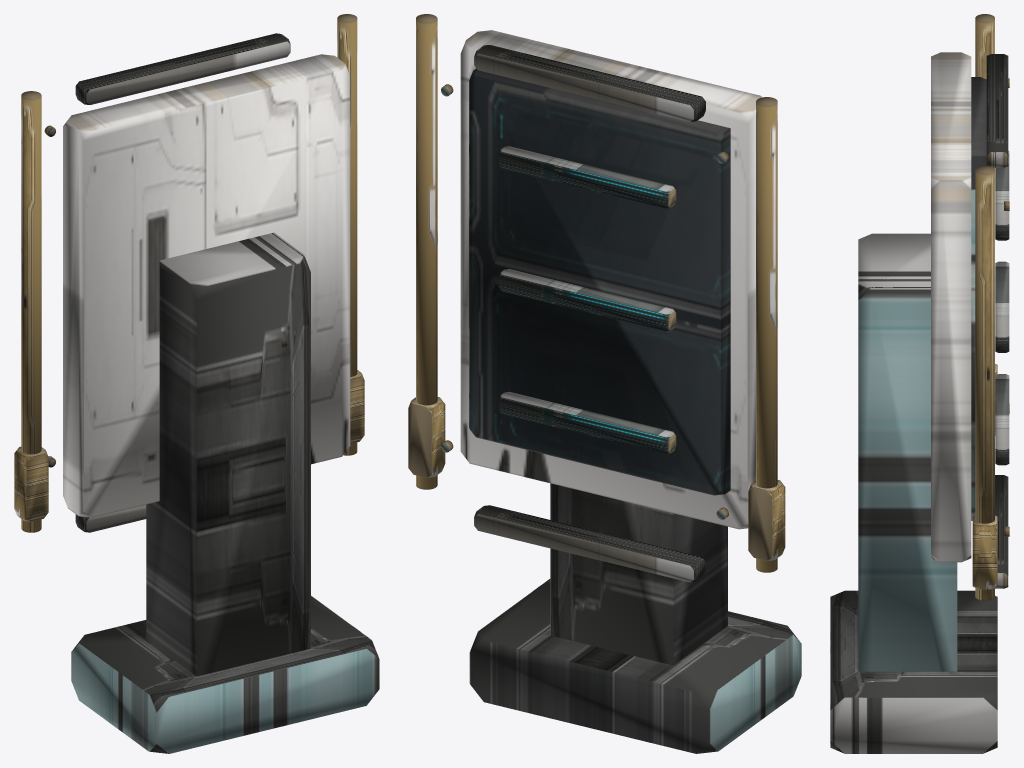
Rendered from room_l5_v3_memory_diagnostic_terminal.glb.
3 views of the same model, side by side, from view 1: azimuth 30°, elevation 25°; view 2: azimuth 150°, elevation 25°; view 3: azimuth 270°, elevation 25° (orthographic). The views are drawn at different scales.
Visible parts, largest first — view 1: white_ceramic_screen_shell, tall_graphite_spine, wide_graphite_floor_base, brass_vertical_side_rail_-0.58, black_screen_gasket_2.12, brass_vertical_side_rail_0.58, lower_brass_mount_-0.58, black_screen_gasket_0.62, lower_brass_mount_0.58; view 2: smoked_glass_diagnostic_screen, wide_graphite_floor_base, white_ceramic_screen_shell, tall_graphite_spine, brass_vertical_side_rail_-0.58, brass_vertical_side_rail_0.58, black_screen_gasket_0.62, black_screen_gasket_2.12, cyan_horizontal_status_slit_1.82, cyan_horizontal_status_slit_1.42, cyan_horizontal_status_slit_1.02, lower_brass_mount_-0.58 (+1 smaller); view 3: tall_graphite_spine, white_ceramic_screen_shell, wide_graphite_floor_base, brass_vertical_side_rail_0.58, smoked_glass_diagnostic_screen, black_screen_gasket_2.12, lower_brass_mount_0.58, black_screen_gasket_0.62, cyan_horizontal_status_slit_1.02, cyan_horizontal_status_slit_1.42, cyan_horizontal_status_slit_1.82, brass_vertical_side_rail_-0.58.
Part boxes in pixels (bbox=[...]): white_ceramic_screen_shell: bbox=[63, 54, 350, 517]; tall_graphite_spine: bbox=[146, 232, 310, 676]; wide_graphite_floor_base: bbox=[71, 595, 379, 753]; brass_vertical_side_rail_-0.58: bbox=[21, 91, 41, 532]; black_screen_gasket_2.12: bbox=[75, 33, 290, 104]; brass_vertical_side_rail_0.58: bbox=[337, 14, 357, 455]; lower_brass_mount_-0.58: bbox=[14, 446, 48, 521]; black_screen_gasket_0.62: bbox=[75, 504, 146, 532]; lower_brass_mount_0.58: bbox=[350, 370, 364, 443]; smoked_glass_diagnostic_screen: bbox=[469, 68, 730, 495]; wide_graphite_floor_base: bbox=[469, 579, 801, 753]; white_ceramic_screen_shell: bbox=[460, 30, 761, 529]; tall_graphite_spine: bbox=[550, 483, 727, 665]; brass_vertical_side_rail_-0.58: bbox=[756, 97, 777, 572]; brass_vertical_side_rail_0.58: bbox=[416, 14, 437, 489]; black_screen_gasket_0.62: bbox=[474, 505, 705, 582]; black_screen_gasket_2.12: bbox=[474, 45, 705, 121]; cyan_horizontal_status_slit_1.82: bbox=[498, 146, 676, 208]; cyan_horizontal_status_slit_1.42: bbox=[498, 269, 676, 331]; cyan_horizontal_status_slit_1.02: bbox=[498, 391, 676, 454]; lower_brass_mount_-0.58: bbox=[748, 480, 785, 560]; tall_graphite_spine: bbox=[858, 233, 957, 671]; white_ceramic_screen_shell: bbox=[931, 52, 971, 562]; wide_graphite_floor_base: bbox=[830, 590, 997, 753]; brass_vertical_side_rail_0.58: bbox=[975, 165, 994, 600]; smoked_glass_diagnostic_screen: bbox=[971, 77, 986, 520]; black_screen_gasket_2.12: bbox=[986, 54, 1008, 167]; lower_brass_mount_0.58: bbox=[972, 515, 997, 589]; black_screen_gasket_0.62: bbox=[995, 475, 1008, 588]; cyan_horizontal_status_slit_1.02: bbox=[995, 374, 1009, 465]; cyan_horizontal_status_slit_1.42: bbox=[995, 261, 1009, 352]; cyan_horizontal_status_slit_1.82: bbox=[995, 150, 1009, 240]; brass_vertical_side_rail_-0.58: bbox=[975, 14, 994, 168].
Bounding box in the file's own units: 1.24 × 2.16 × 0.579.
8 materials, 8 textured.
